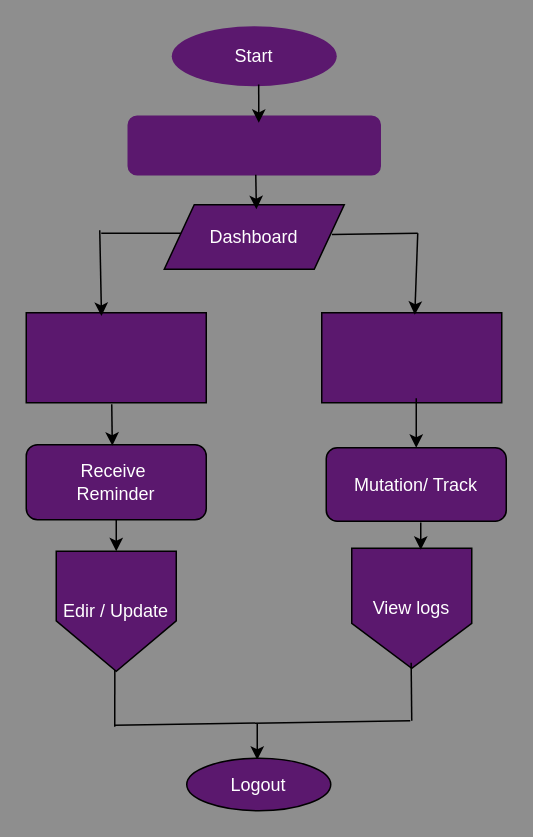
The diagram is 533 pixels wide and 837 high, and some of its shapes have lost their labels. The centre of each missing label's shape, as x and y in pixels:
Drug Simulation: pixel 411 357
Login / Register: pixel 253 145
Medicine Schedule: pixel 115 357
